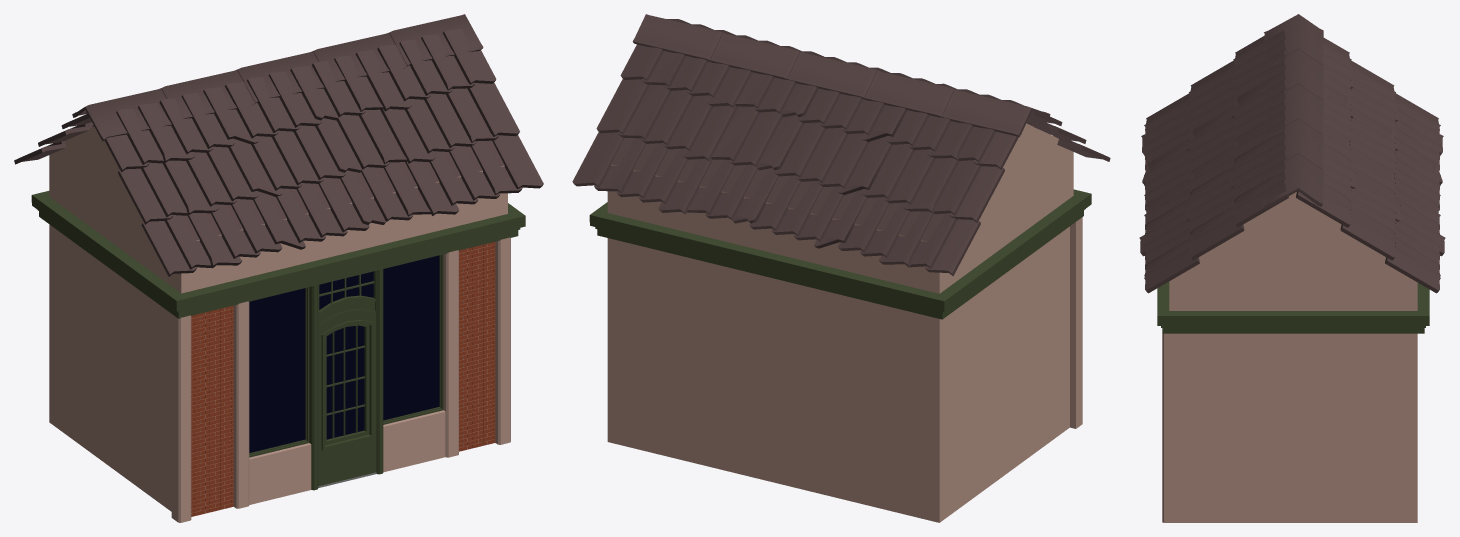
The model's file is House_3.fbx.
3 views of the same model, side by side, from view 1: azimuth 30°, elevation 25°; view 2: azimuth 150°, elevation 25°; view 3: azimuth 270°, elevation 25° (orthographic). The views are drawn at different scales.
Visible parts, largest first — view 1: Box001, Box008, Window 2, Window 1, House 2, Box014, Box002, Box003, Box005, Box004, Box009, Box010 (+62 smaller); view 2: Box001, Box008, House 2, Box002, Box897, Box901, Box898, Box899, Box900, Box118, Box101, Box085 (+48 smaller); view 3: Box001, Box008, Box901, Box897, Box005, Box900, Box898, Box899, Box118, Box067, Box101, Box050 (+80 smaller).
Part boxes in pixels (<box>): Box001: <box>49,126,507,512</box>; Box008: <box>31,191,525,318</box>; Window 2: <box>383,255,439,420</box>; Window 1: <box>249,288,305,452</box>; House 2: <box>90,118,504,439</box>; Box014: <box>318,310,376,486</box>; Box002: <box>171,314,191,522</box>; Box003: <box>233,301,249,508</box>; Box005: <box>495,237,510,444</box>; Box004: <box>443,250,458,457</box>; Box009: <box>383,410,445,472</box>; Box010: <box>249,443,311,504</box>; Box001: <box>607,123,1073,522</box>; Box008: <box>589,189,1091,319</box>; House 2: <box>611,115,1050,241</box>; Box002: <box>1070,217,1082,428</box>; Box897: <box>941,89,1050,137</box>; Box901: <box>632,14,725,61</box>; Box898: <box>864,70,957,117</box>; Box899: <box>787,51,879,99</box>; Box900: <box>710,33,803,79</box>; Box118: <box>596,79,649,133</box>; Box101: <box>572,132,623,186</box>; Box085: <box>925,219,980,276</box>; Box001: <box>1169,192,1417,522</box>; Box008: <box>1157,281,1429,333</box>; Box901: <box>1262,153,1323,208</box>; Box897: <box>1262,14,1323,64</box>; Box005: <box>1162,333,1169,522</box>; Box900: <box>1262,118,1323,171</box>; Box898: <box>1262,49,1323,101</box>; Box899: <box>1262,84,1323,134</box>; Box118: <box>1340,216,1396,260</box>; Box067: <box>1188,216,1244,260</box>; Box101: <box>1385,248,1440,293</box>; Box050: <box>1144,248,1199,293</box>.
Bounding box in the file's own units: 295 × 275 × 220.
